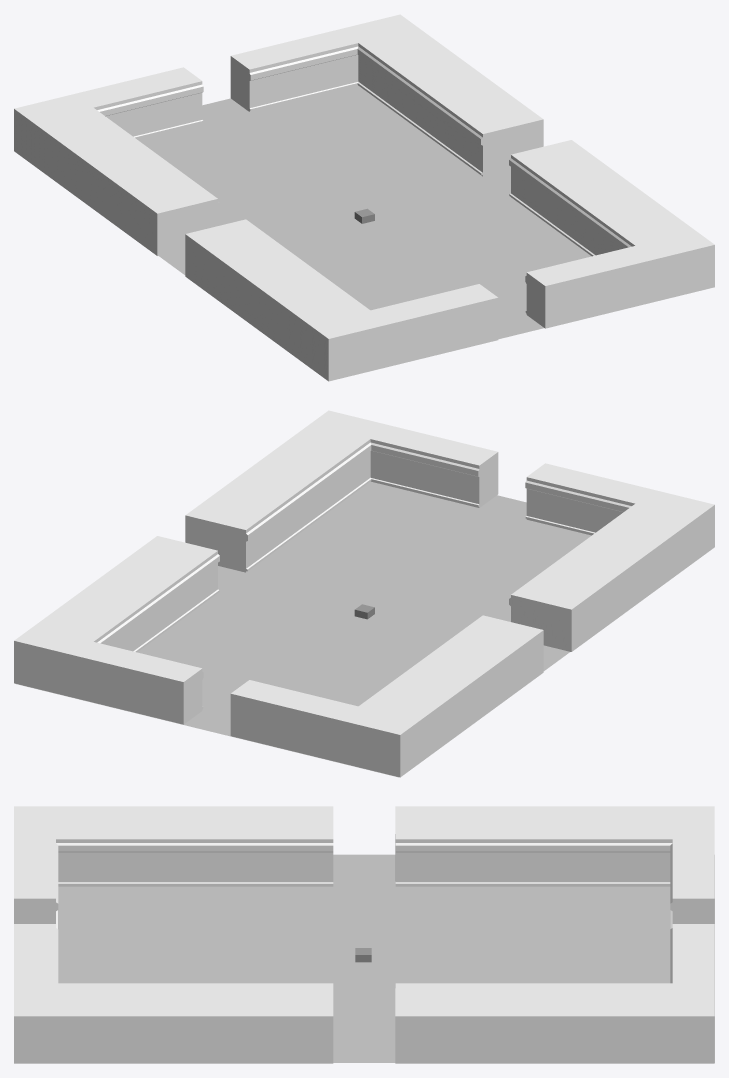
The model's file is collisionroomtest2.obj.
3 views of the same model, one above another, from view 1: azimuth 30°, elevation 25°; view 2: azimuth 150°, elevation 25°; view 3: azimuth 270°, elevation 25° (orthographic). The views are drawn at different scales.
Parts seen in each view (by area): view 1: room, Plane; view 2: room, Plane; view 3: room, Plane.
Boxes of the visible parts, left/top/right/bottom form: room: left=14, top=14, right=714, bottom=381; Plane: left=137, top=85, right=591, bottom=339; room: left=14, top=410, right=714, bottom=777; Plane: left=15, top=481, right=591, bottom=777; room: left=14, top=806, right=714, bottom=1063; Plane: left=58, top=854, right=714, bottom=1062.
Size of what is drawn, in the model's own units: 60.21 by 7.36 by 84.98.
